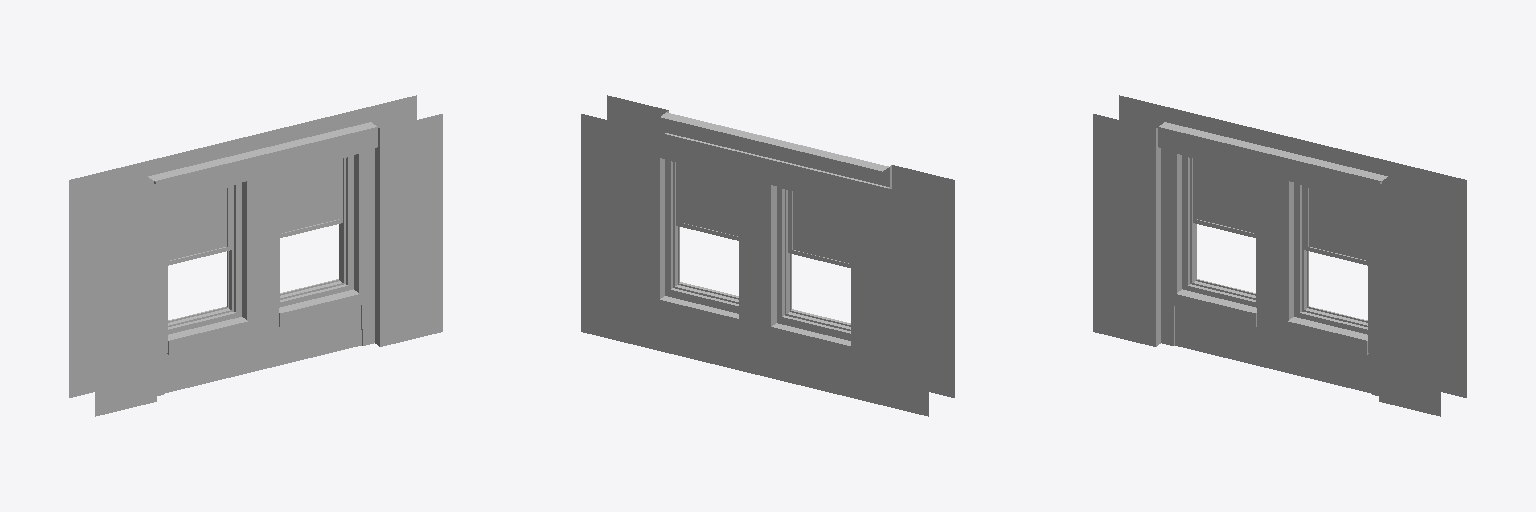
File: Building_Mid_Straight_A_LOD0.obj
3 views of the same model, side by side, from view 1: azimuth 30°, elevation 25°; view 2: azimuth 150°, elevation 25°; view 3: azimuth 330°, elevation 25° (orthographic).
Parts seen in each view (by area): view 1: Building_Mid_Straight_A_LOD0 Building_Mid_Straight_A; view 2: Building_Mid_Straight_A_LOD0 Building_Mid_Straight_A; view 3: Building_Mid_Straight_A_LOD0 Building_Mid_Straight_A.
Boxes of the visible parts, box(x1,y1,x2,y2) form: Building_Mid_Straight_A_LOD0 Building_Mid_Straight_A: box(69, 95, 442, 416); Building_Mid_Straight_A_LOD0 Building_Mid_Straight_A: box(581, 95, 954, 416); Building_Mid_Straight_A_LOD0 Building_Mid_Straight_A: box(1093, 95, 1466, 416).
Size of the model in its own units: 500 by 300 by 63.11.